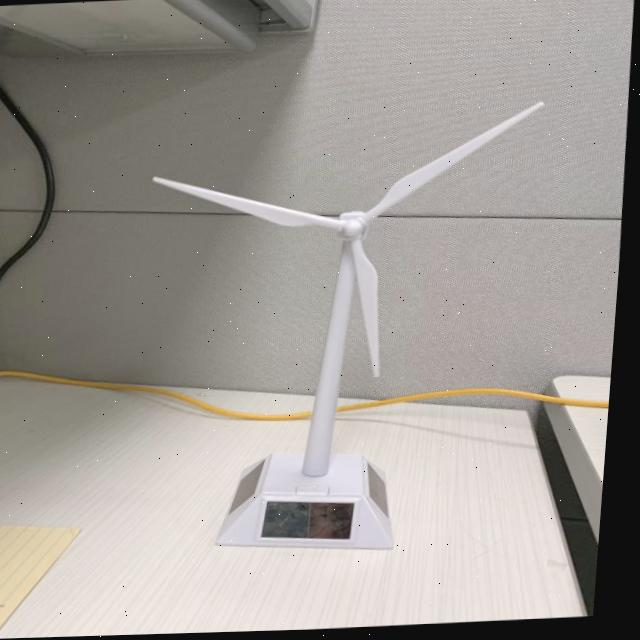solid-blade: (366, 106, 546, 223), (156, 178, 345, 232), (356, 242, 385, 379)
